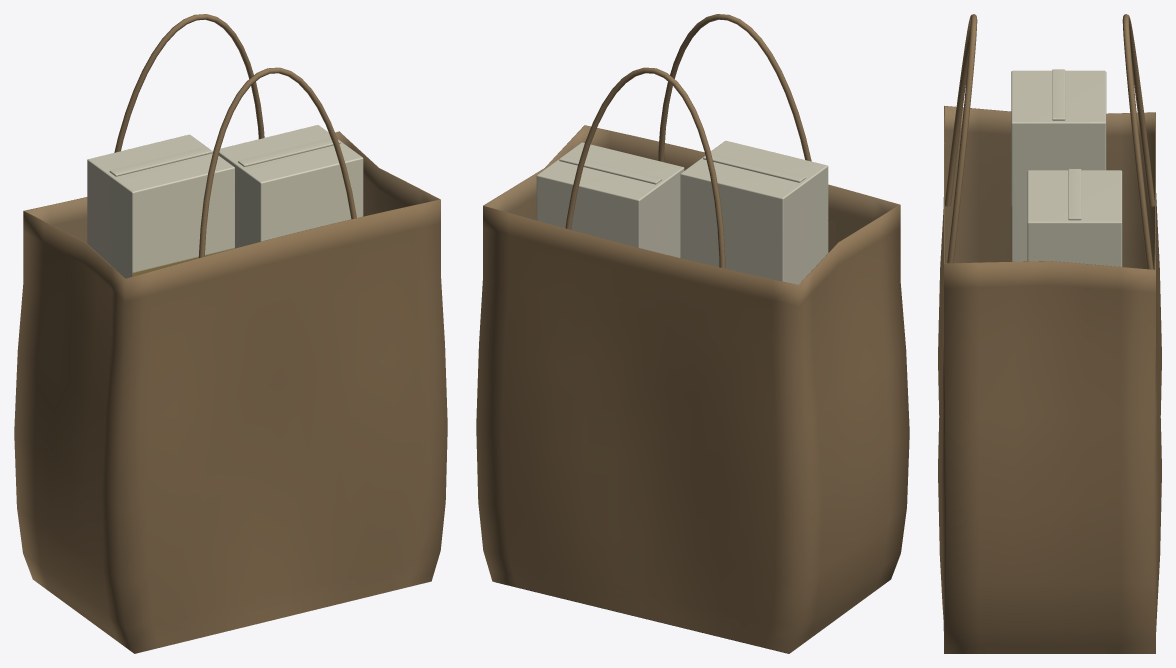
The model's file is GroceryBag_LOD0.fbx.
The picture shows the model from 3 angles, left to right: view 1: azimuth 30°, elevation 25°; view 2: azimuth 150°, elevation 25°; view 3: azimuth 270°, elevation 25°; orthographic projection. The views are drawn at different scales.
Visible parts, largest first — view 1: Body_LOD0; view 2: Body_LOD0; view 3: Body_LOD0.
Part boxes in pixels (bbox=[...]): Body_LOD0: bbox=[14, 14, 447, 653]; Body_LOD0: bbox=[476, 14, 909, 653]; Body_LOD0: bbox=[938, 14, 1161, 653].
Size of the model in its own units: 0.273 by 0.4242 by 0.1533.
